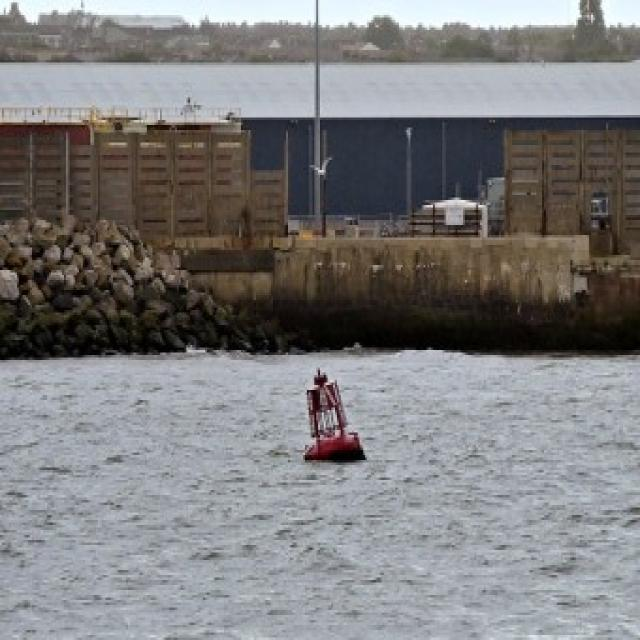buoy: (299, 358, 377, 479)
